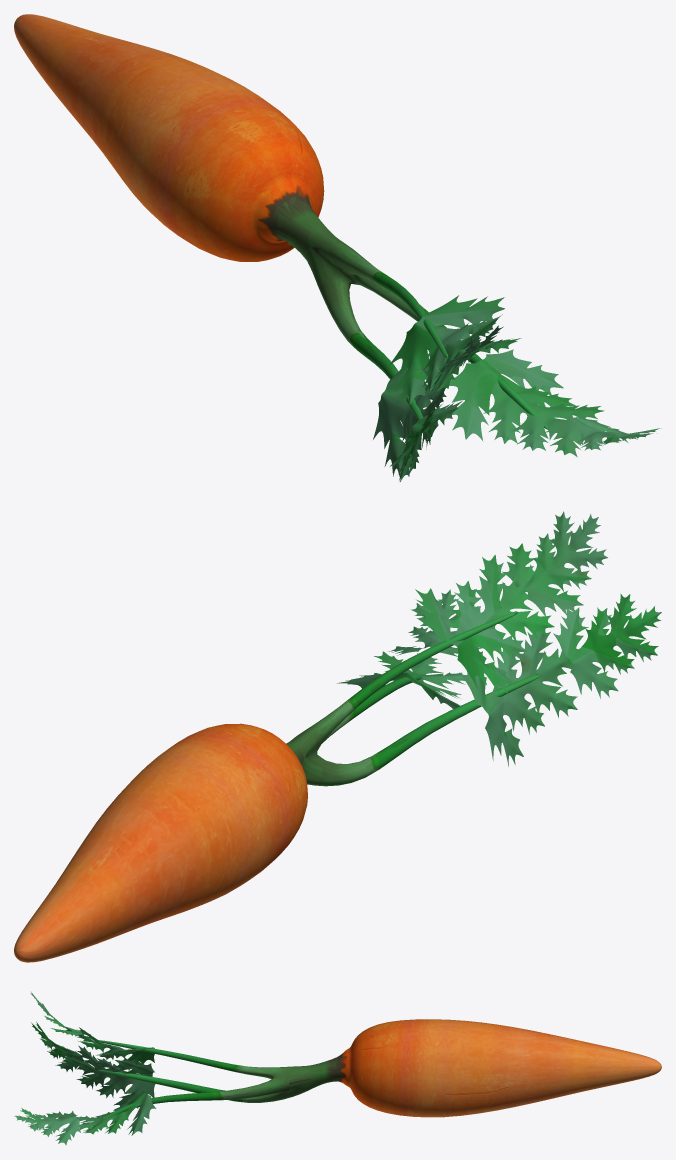
The model's file is 10170_Carrot_v01_L3.obj.
3 renders of one model, top to bottom at view 1: azimuth 30°, elevation 25°; view 2: azimuth 150°, elevation 25°; view 3: azimuth 270°, elevation 25°, orthographic. The views are drawn at different scales.
Parts seen in each view (by area): view 1: 10170_Carrot_v01; view 2: 10170_Carrot_v01; view 3: 10170_Carrot_v01.
Part boxes in pixels (x1,y1,x2,y2): 10170_Carrot_v01: [14, 14, 661, 481]; 10170_Carrot_v01: [14, 511, 661, 962]; 10170_Carrot_v01: [14, 992, 661, 1145].
Bounding box in the file's own units: 76.83 × 56.01 × 272.
1 material, 1 textured.
